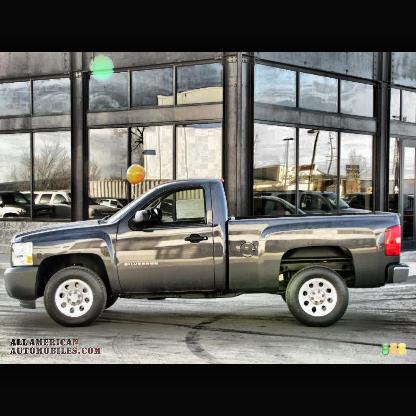Chevrolet Silverado 1500 Regular Cab 2012: (4, 177, 410, 328)
